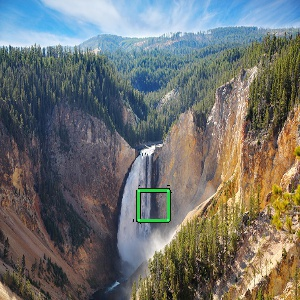square: (135, 187, 171, 224)
